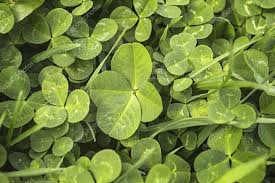4-clover: (91, 43, 164, 138)
